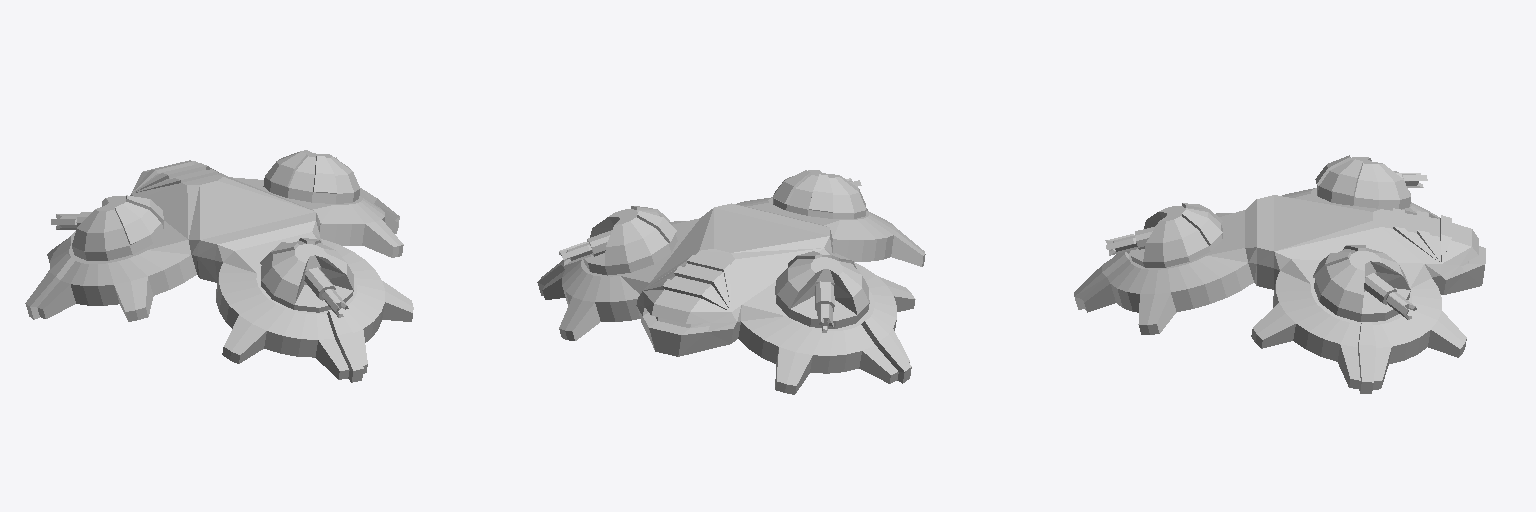
Rendered from gunship - latest- UV.obj.
The picture shows the model from 3 angles: view 1: azimuth 30°, elevation 25°; view 2: azimuth 150°, elevation 25°; view 3: azimuth 270°, elevation 25°; orthographic projection.
Parts seen in each view (by area): view 1: cylinder2; view 2: cylinder2; view 3: cylinder2.
Part boxes in pixels (x1,y1,x2,y2): cylinder2: (25, 150, 413, 382); cylinder2: (537, 170, 925, 394); cylinder2: (1074, 155, 1485, 393).
Size of the model in its own units: 67.76 by 18.18 by 65.22.